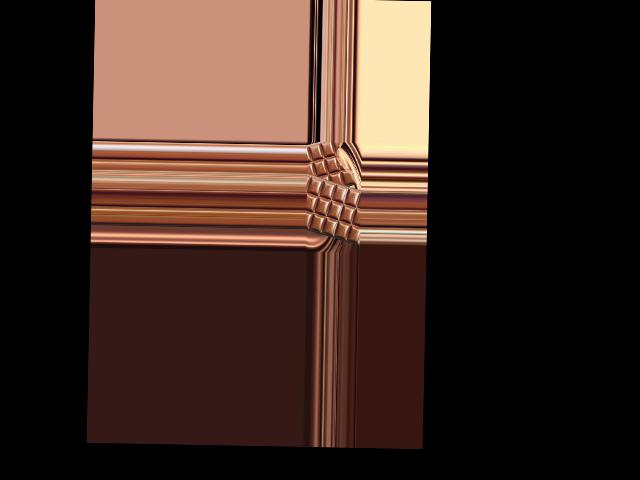chocolate: (304, 173, 360, 246)
